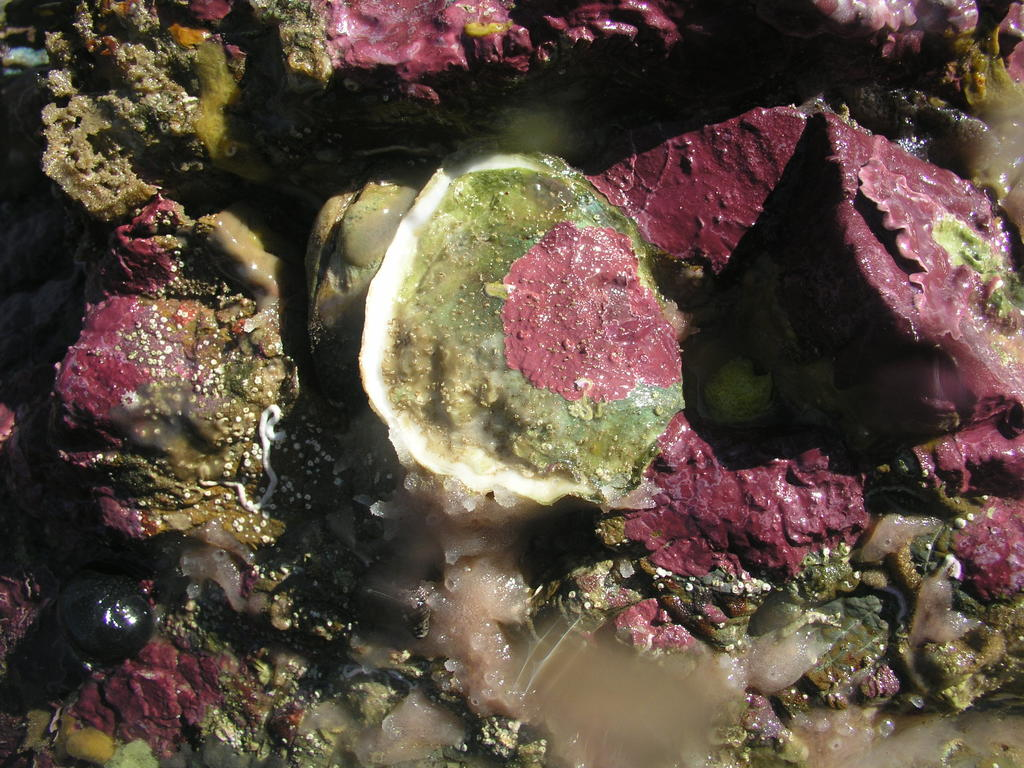face: (321, 0, 552, 130)
